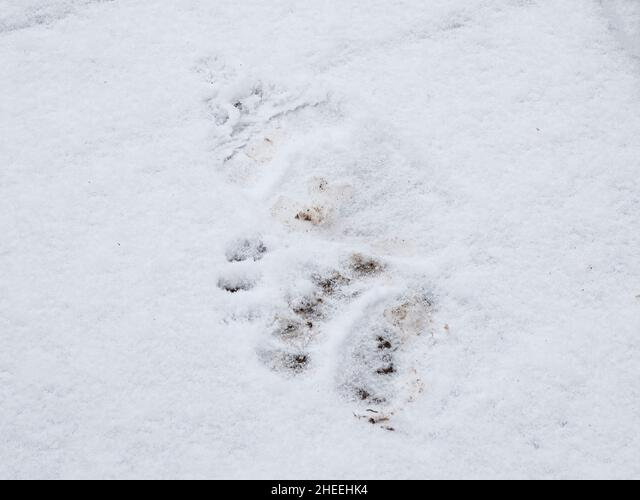bear: (212, 175, 510, 447)
